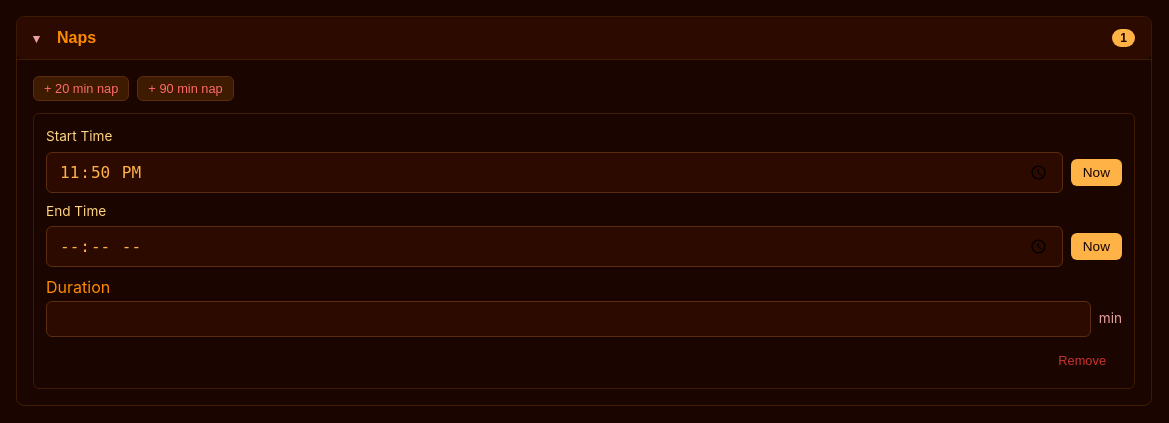
Test: NapSection › computes duration across midnight
Type "00:10" into the time field below "End Time" at (554, 247), box [46,226,1063,267]
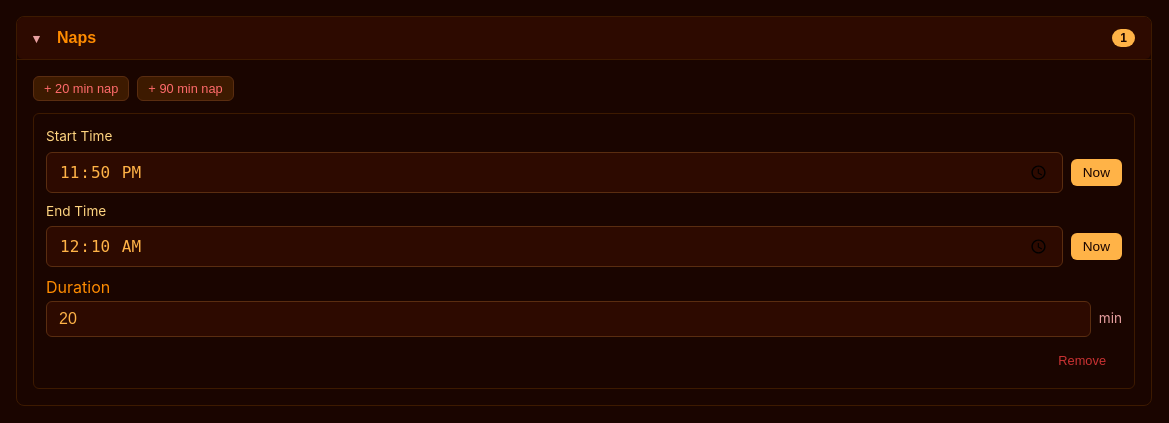
Check: the number field holds "20", box [46,301,1091,337]
